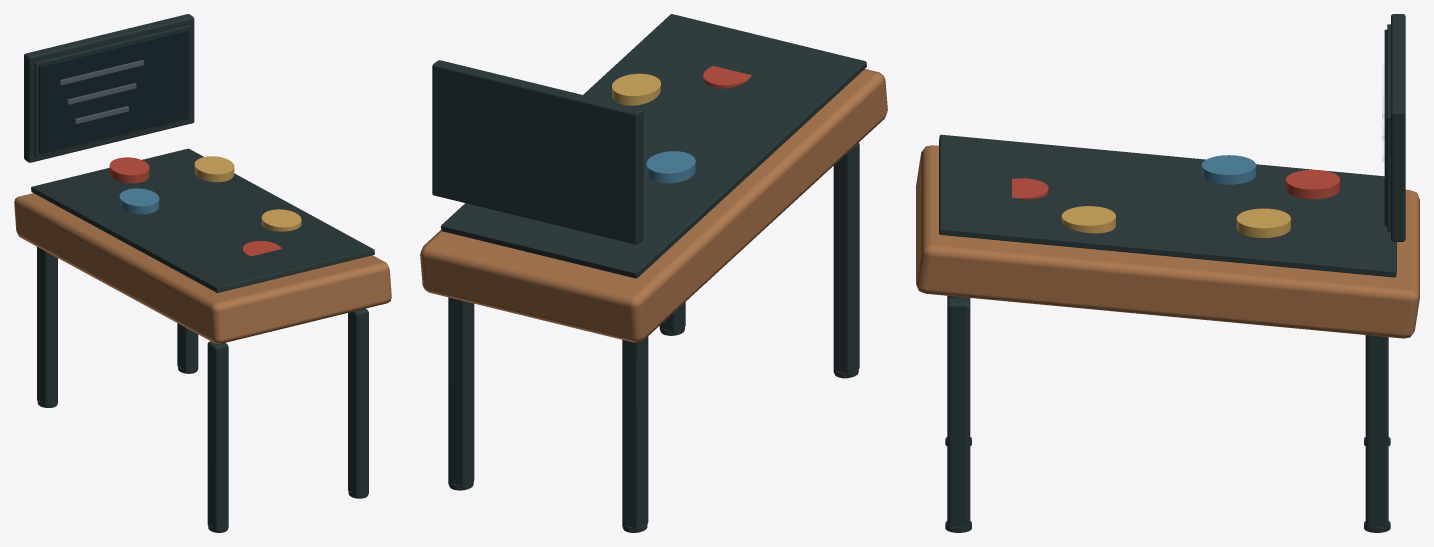
The model's file is wp-flipper.glb.
3 views of the same model, side by side, from view 1: azimuth 30°, elevation 25°; view 2: azimuth 150°, elevation 25°; view 3: azimuth 270°, elevation 25° (orthographic). The views are drawn at different scales.
Parts seen in each view (by area): view 1: wp-flipper; view 2: wp-flipper; view 3: wp-flipper.
Boxes of the visible parts, <box> form: wp-flipper: <box>14,14,391,532</box>; wp-flipper: <box>420,14,887,532</box>; wp-flipper: <box>916,14,1419,532</box>.
Bounding box in the file's own units: 0.65 × 1.2 × 1.29.
